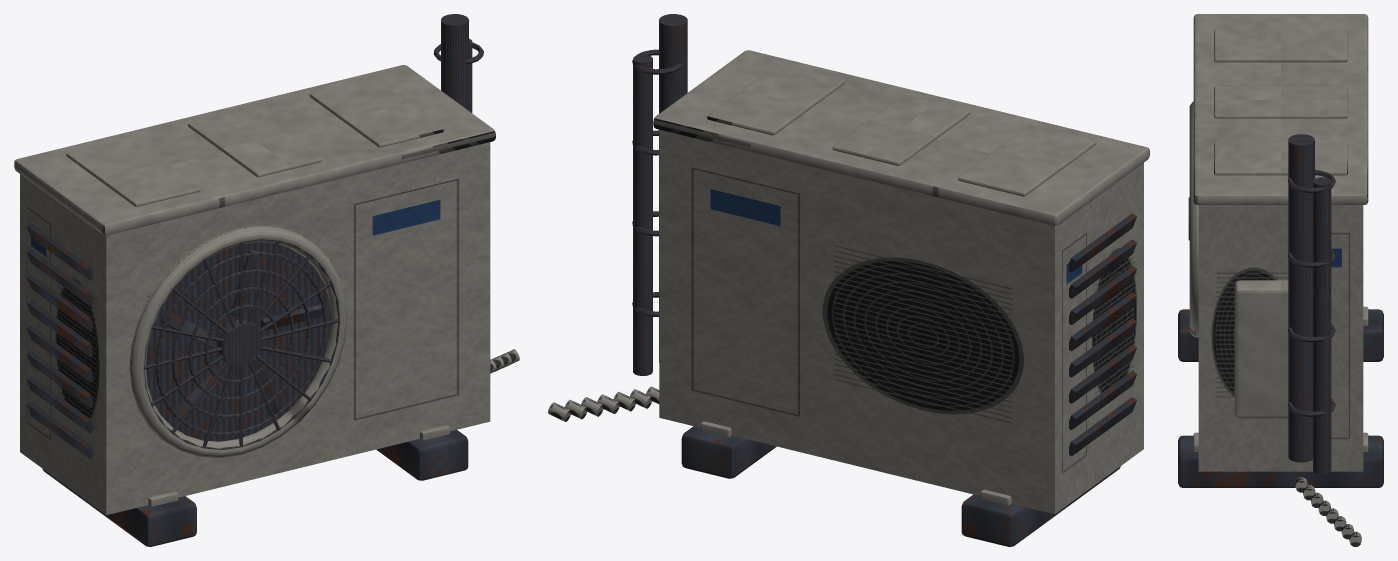
File: Prop_ACUnit.fbx
3 views of the same model, side by side, from view 1: azimuth 30°, elevation 25°; view 2: azimuth 150°, elevation 25°; view 3: azimuth 270°, elevation 25° (orthographic). The views are drawn at different scales.
Parts seen in each view (by area): view 1: Prop_ACUnit; view 2: Prop_ACUnit; view 3: Prop_ACUnit.
Boxes of the visible parts, x1=… form: Prop_ACUnit: x1=14, y1=14, x2=519, y2=546; Prop_ACUnit: x1=548, y1=14, x2=1149, y2=546; Prop_ACUnit: x1=1178, y1=14, x2=1383, y2=546.
Bounding box in the file's own units: 1.07 × 0.8 × 0.4.
